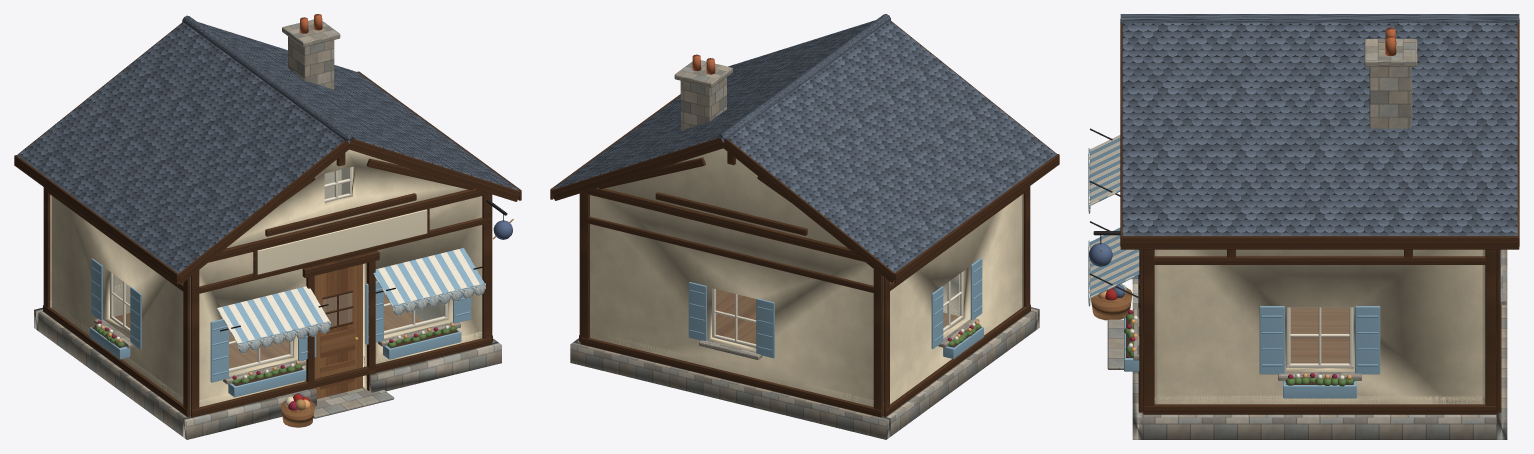
Rendered from building_shop.glb.
3 views of the same model, side by side, from view 1: azimuth 30°, elevation 25°; view 2: azimuth 150°, elevation 25°; view 3: azimuth 270°, elevation 25° (orthographic). The views are drawn at different scales.
Parts seen in each view (by area): view 1: roof, wall_front, wall_left, door, base, wall_front_low, wall_back, wall_left_low, wall_right; view 2: wall_back, roof, wall_left, wall_back_low, base, wall_left_low, wall_front; view 3: roof, wall_right, wall_front, base, wall_right_low, wall_back, wall_back_low, wall_front_low.
Part boxes in pixels (box(x1,y1,x2,y2)): roof: box(14, 14, 521, 284); wall_front: box(182, 149, 513, 439); wall_left: box(38, 187, 189, 436); door: box(314, 264, 362, 398); base: box(114, 293, 422, 427); wall_front_low: box(183, 332, 501, 438); wall_back: box(34, 169, 341, 330); wall_left_low: box(41, 301, 189, 415); wall_right: box(341, 168, 496, 342); wall_back: box(570, 148, 890, 439); roof: box(550, 14, 1059, 283); wall_left: box(883, 186, 1035, 436); wall_back_low: box(570, 331, 890, 438); base: box(716, 289, 958, 343); wall_left_low: box(883, 301, 1035, 417); wall_front: box(942, 194, 1039, 330); roof: box(1120, 14, 1519, 249); wall_right: box(1143, 249, 1496, 439); wall_front: box(1088, 128, 1157, 439); base: box(1091, 283, 1349, 369); wall_right_low: box(1143, 395, 1496, 439); wall_back: box(1482, 249, 1507, 439); wall_back_low: box(1482, 250, 1507, 438); wall_front_low: box(1132, 280, 1156, 438).
Bounding box in the file's own units: 6.91 × 5.57 × 6.1.
28 materials, 8 textured.
